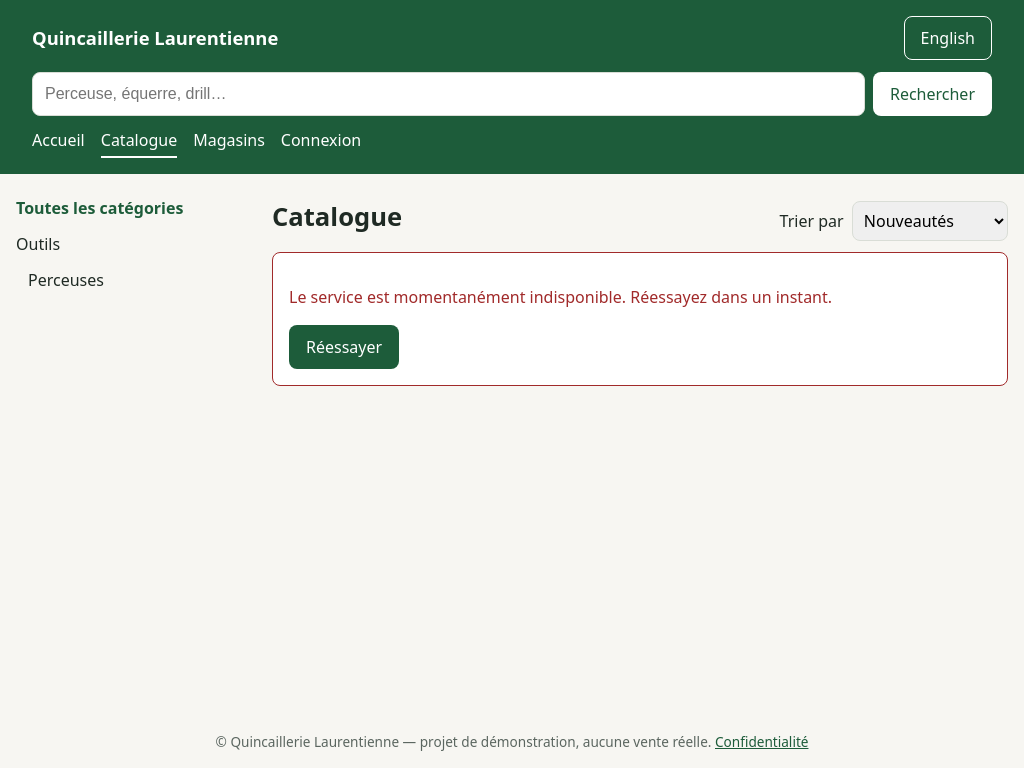
Test case: Catalogue (A-CAT-01) › affiche une erreur et permet de réessayer
This screenshot has width=1024, height=768.
Expected: the message shows "momentanément indisponible", [289,286,832,308]
Click the button "Réessayer" at (344, 347), box [289,325,399,369]
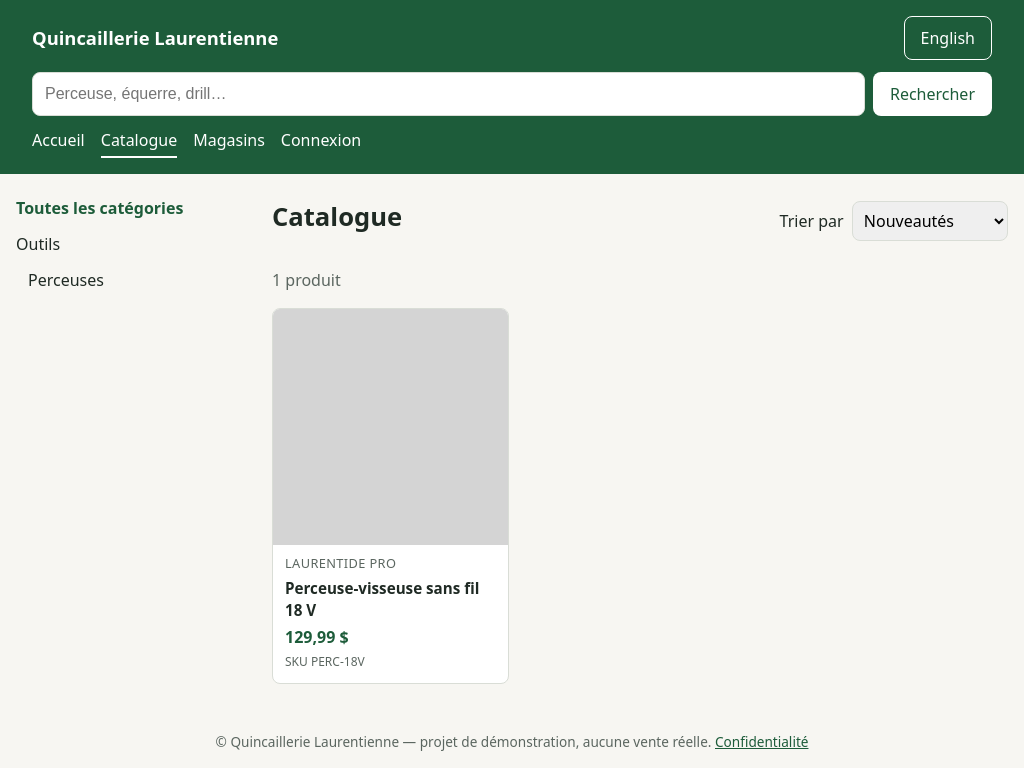
Expected: the heading "Perceuse-visseuse sans fil 18 V" is shown, [285,577,496,622]
